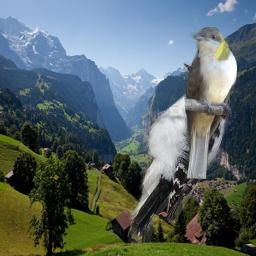Cuckoo: (182, 27, 237, 179)
Woodpecker: (126, 61, 230, 244)
